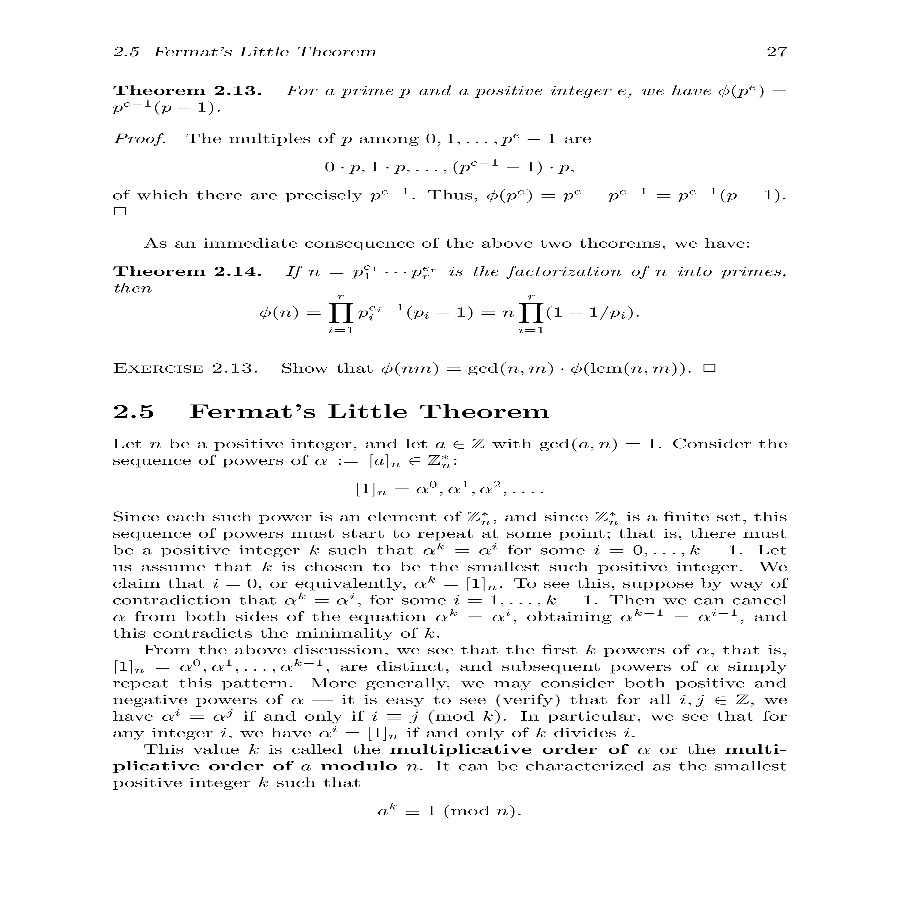eq: (255, 292, 638, 338), (379, 357, 687, 378), (349, 472, 551, 500), (373, 799, 515, 821)
